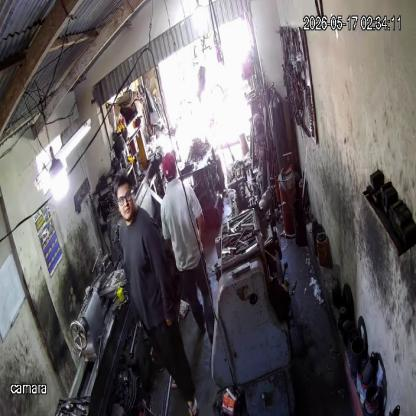lentes: (117, 190, 133, 205)
